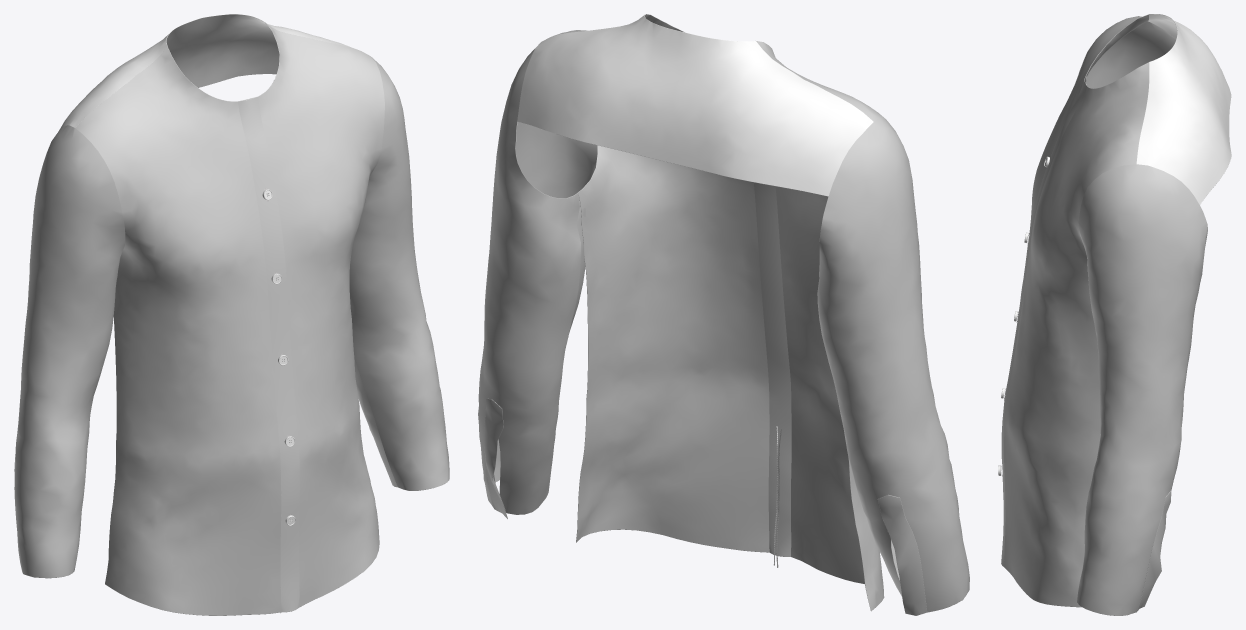
The model's file is shirt.glb.
3 views of the same model, side by side, from view 1: azimuth 30°, elevation 25°; view 2: azimuth 150°, elevation 25°; view 3: azimuth 270°, elevation 25° (orthographic). The views are drawn at different scales.
Visible parts, largest first — view 1: -FRT_1_Node, -FRT_3_Node, -SLV_2_Node, -SLV_1_Node, -FRT_4_Node, yoke_Node; view 2: -FRT_3_Node, -SLV_2_Node, yoke_Node, -SLV_1_Node, -FRT_1_Node, -FRT_2_Node, Pattern_4802921_Node, Pattern_4802922_Node; view 3: -SLV_1_Node, -FRT_3_Node, yoke_Node, -SLV_2_Node, -FRT_1_Node, -FRT_4_Node, Pattern_4802922_Node.
Boxes of the visible parts, x1,y1,x2,y2 form: -FRT_1_Node: (75,46,281,615); -FRT_3_Node: (258,22,384,607); -SLV_2_Node: (14,125,125,578); -SLV_1_Node: (349,57,449,490); -FRT_4_Node: (238,96,299,612); yoke_Node: (59,14,353,130); -FRT_3_Node: (554,14,769,552); -SLV_2_Node: (817,118,969,612); yoke_Node: (517,14,873,196); -SLV_1_Node: (478,44,597,514); -FRT_1_Node: (756,41,884,611); -FRT_2_Node: (753,182,791,556); Pattern_4802921_Node: (877,495,927,615); Pattern_4802922_Node: (484,398,507,518); -SLV_1_Node: (1077,164,1207,615); -FRT_3_Node: (1004,62,1149,607); yoke_Node: (1136,14,1231,204); -SLV_2_Node: (1086,21,1176,88); -FRT_1_Node: (1017,14,1148,318); -FRT_4_Node: (1001,76,1086,567); Pattern_4802922_Node: (1137,491,1171,611).
Size of the model in its own units: 58.62 by 71.12 by 28.05.
Materials: 10 (7 with a texture image).
